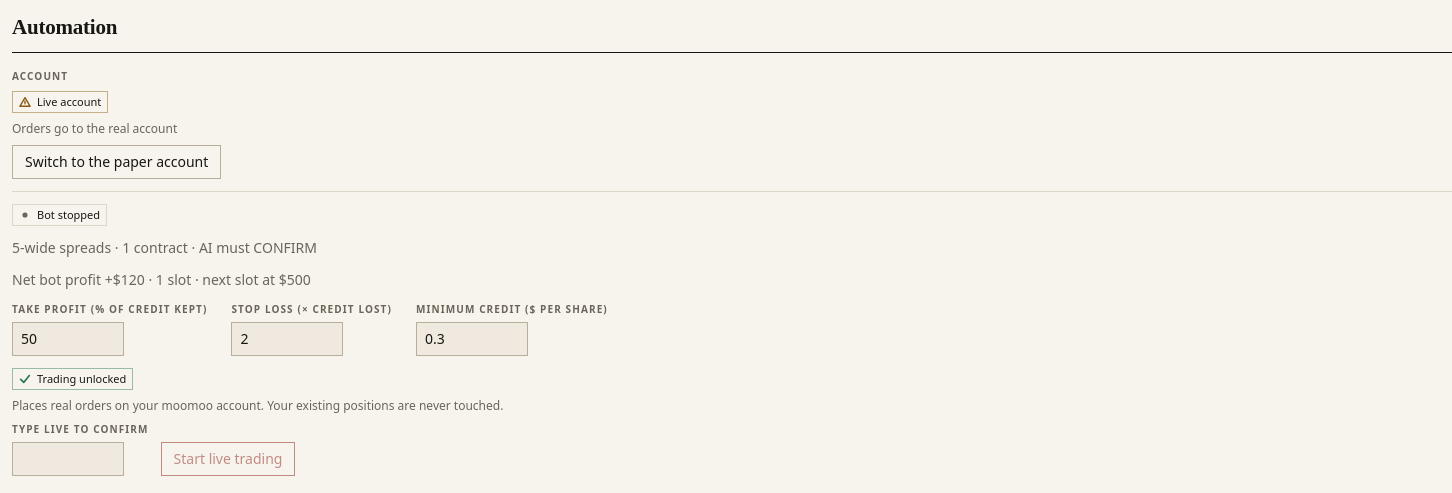
Test: AutomationPanel on the live account › tells the rest of the app once live trading turns on
Step 1. Type "LIVE" into the field labelled "Type LIVE to confirm" → [68, 459], box [12, 442, 124, 476]
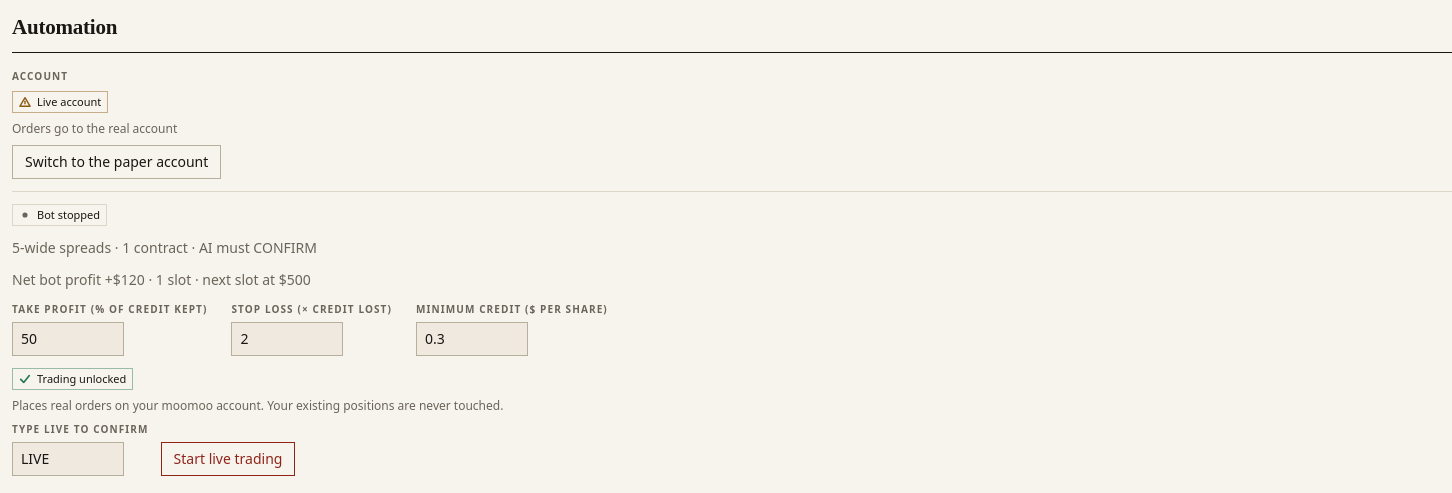
Step 2. Click the button "Start live trading" → [228, 459], box [161, 442, 295, 476]
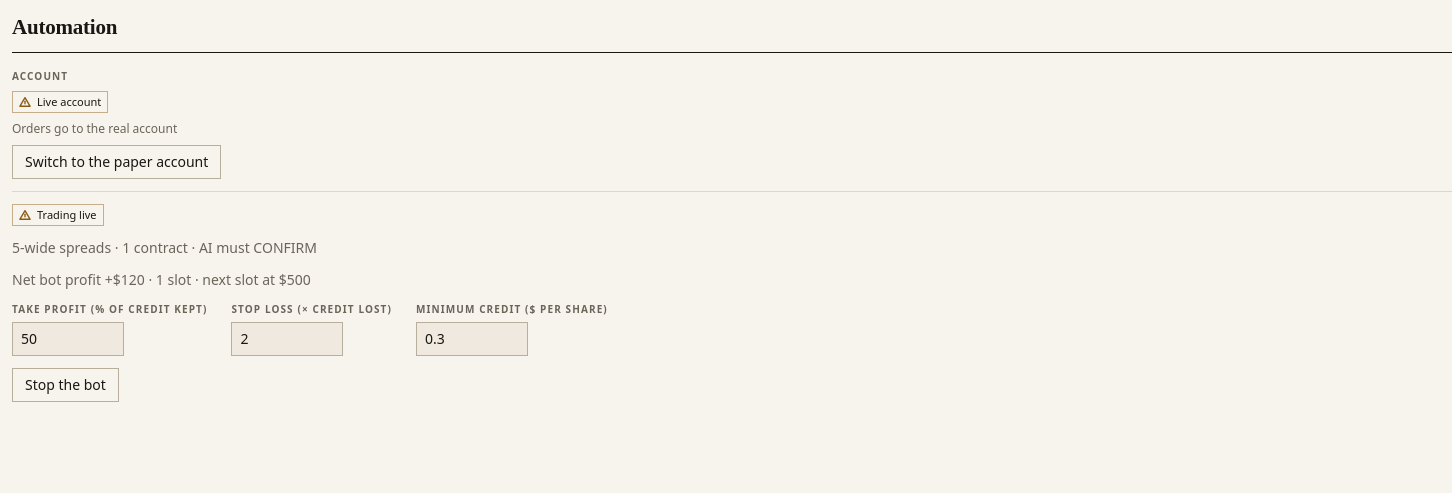
expect the text "Trading live" is shown: met, box [12, 204, 104, 226]
